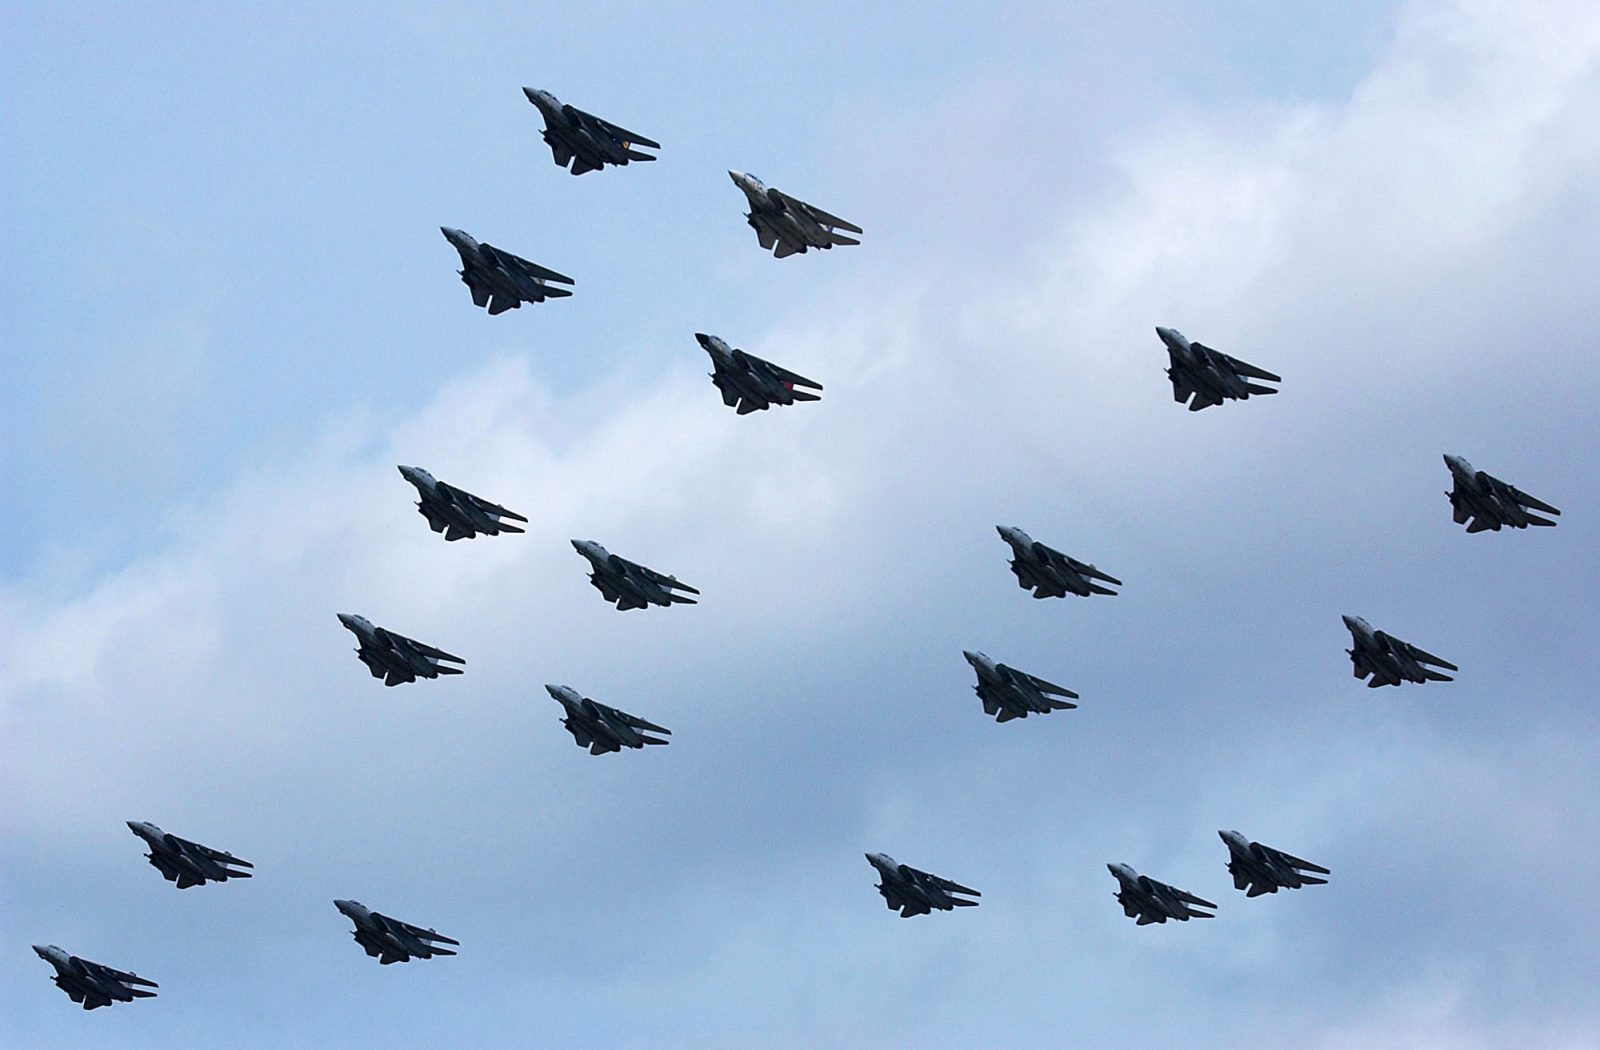F14: (519, 86, 662, 177), (437, 224, 575, 316), (726, 168, 863, 259), (1153, 323, 1283, 411), (693, 332, 823, 416), (395, 463, 529, 543), (1438, 452, 1563, 534), (335, 611, 466, 688), (993, 521, 1123, 598), (542, 681, 672, 756), (569, 538, 700, 611), (1338, 612, 1459, 689), (124, 819, 255, 889), (959, 647, 1079, 723), (29, 942, 159, 1011), (331, 896, 461, 966), (861, 850, 983, 919), (1215, 827, 1331, 898), (1105, 860, 1218, 925)
